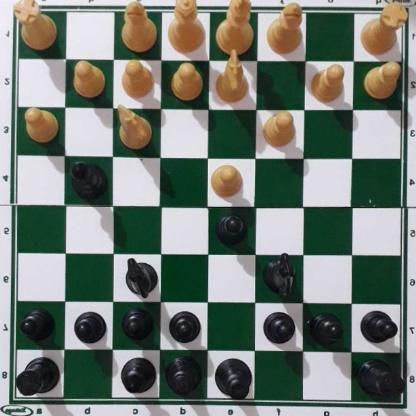black-bishop: (67, 162, 110, 202), (118, 360, 157, 397)
black-king: (215, 356, 253, 403)
black-knight: (262, 255, 295, 299), (124, 261, 156, 300)
black-pawn: (360, 311, 396, 347), (215, 214, 248, 250), (263, 314, 295, 349), (73, 313, 105, 348), (168, 311, 199, 347), (121, 310, 152, 345), (20, 312, 53, 344), (311, 314, 342, 348)
black-queen: (164, 355, 205, 400)
black-rook: (358, 361, 402, 406), (12, 358, 59, 400)
white-bishop: (118, 0, 157, 54), (266, 3, 304, 55)
white-king: (215, 2, 253, 59)
white-knight: (214, 49, 250, 105), (115, 107, 150, 153)
white-pawn: (363, 63, 400, 102), (309, 66, 345, 106), (261, 113, 296, 151), (21, 109, 58, 144), (70, 64, 104, 101), (169, 65, 202, 103), (120, 61, 153, 99), (209, 166, 242, 200)
white-queen: (166, 0, 207, 55)
white-rook: (361, 2, 404, 60), (15, 1, 55, 56)
